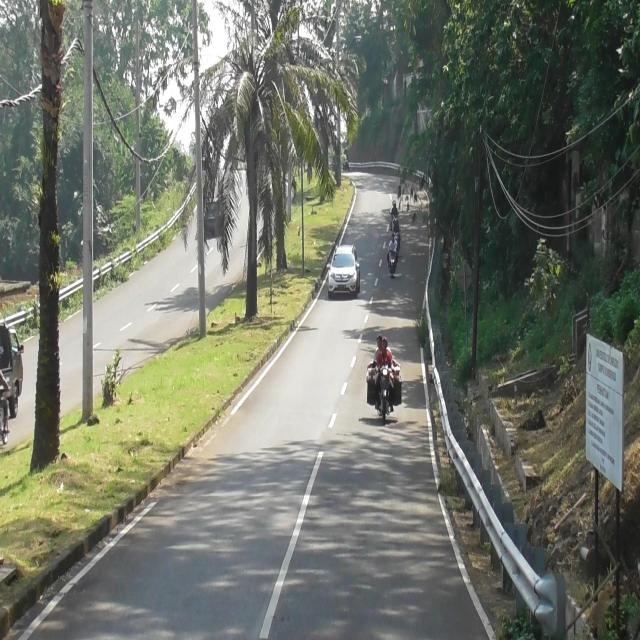motorcycle: (376, 365, 392, 421), (389, 251, 397, 277), (393, 229, 400, 254)
person: (373, 335, 392, 364), (378, 339, 393, 367), (388, 233, 397, 252), (394, 218, 401, 232), (392, 203, 398, 215), (392, 218, 397, 231)
rider_region: (373, 334, 398, 424), (385, 232, 400, 278), (392, 216, 400, 238)
